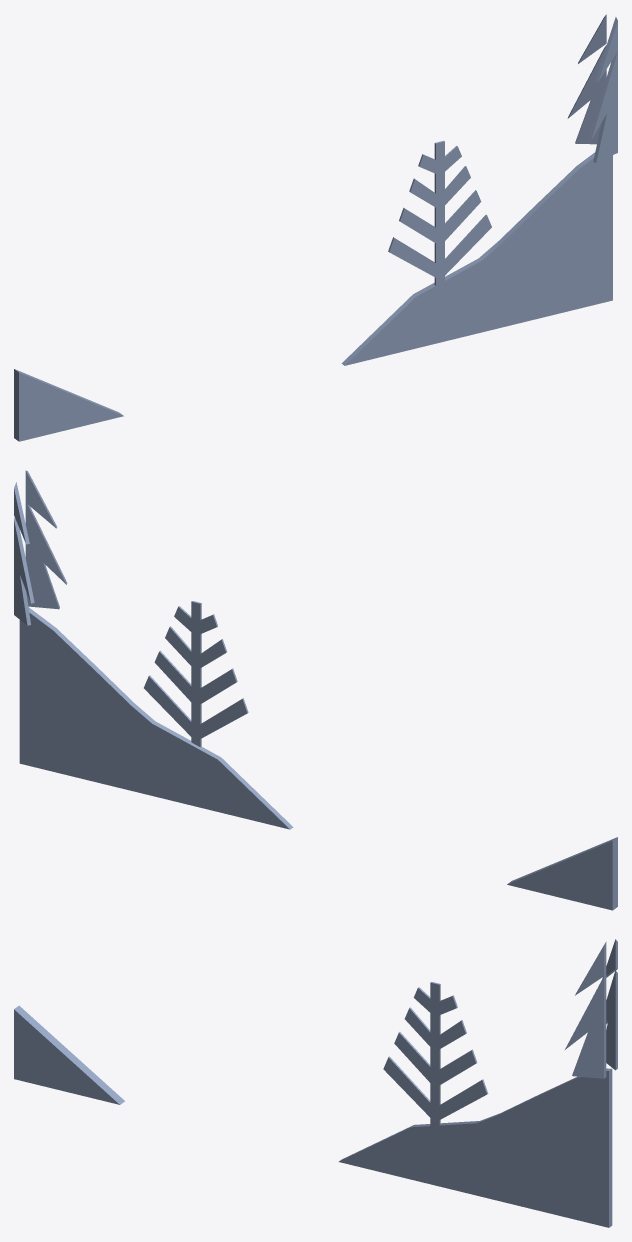
File: frame_0239.glb
3 views of the same model, one above another, from view 1: azimuth 30°, elevation 25°; view 2: azimuth 150°, elevation 25°; view 3: azimuth 330°, elevation 25° (orthographic).
Visible parts, largest first — view 1: export_trees_001.002; view 2: export_trees_001.002; view 3: export_trees_001.002.
Part boxes in pixels (bbox=[...]): export_trees_001.002: bbox=[14, 14, 617, 441]; export_trees_001.002: bbox=[14, 470, 617, 910]; export_trees_001.002: bbox=[14, 939, 617, 1227].
Bounding box in the file's own units: 0.4327 × 0.1999 × 0.0377.
